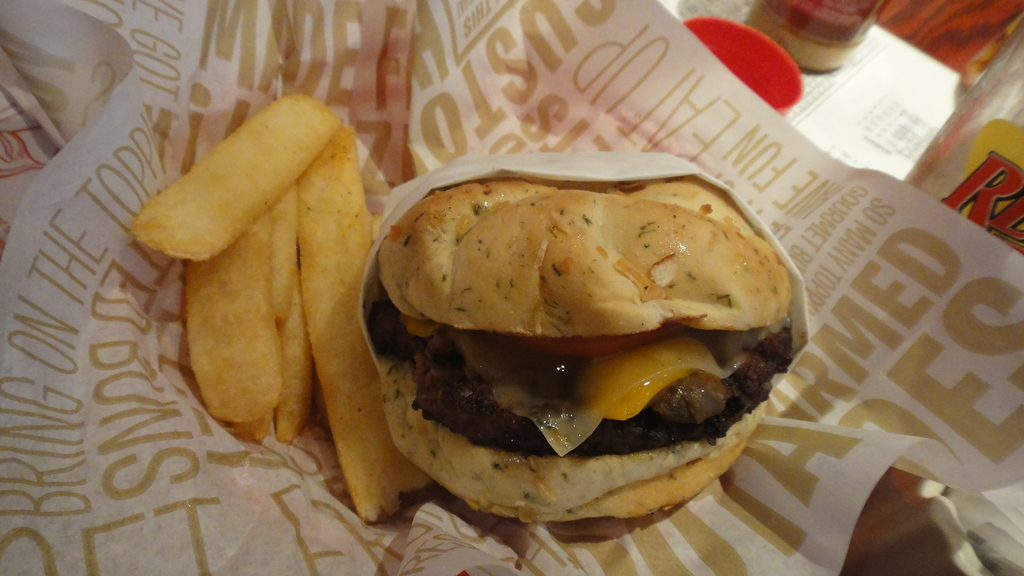French fries: (129, 71, 408, 473)
